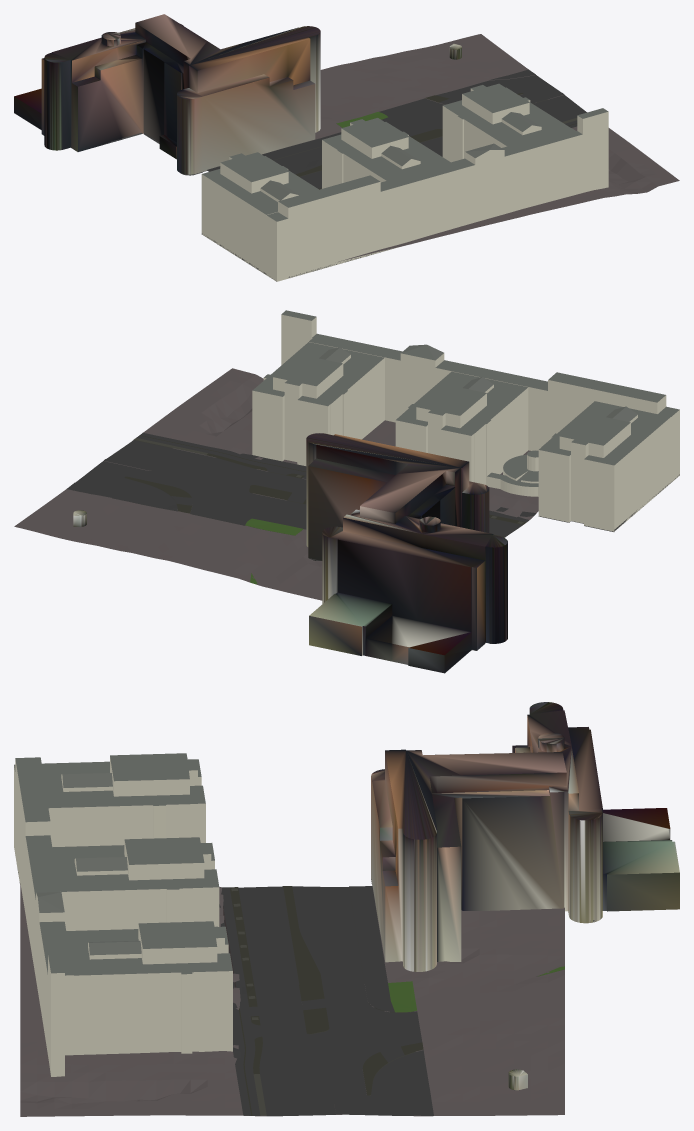
The picture shows the model from 3 angles, top to bottom: view 1: azimuth 30°, elevation 25°; view 2: azimuth 150°, elevation 25°; view 3: azimuth 270°, elevation 25°; orthographic projection. The views are drawn at different scales.
Parts seen in each view (by area): view 1: c_m18_p04; view 2: c_m18_p04; view 3: c_m18_p04.
Boxes of the visible parts, left/top/right/bottom form: c_m18_p04: left=14, top=14, right=679, bottom=281; c_m18_p04: left=14, top=310, right=679, bottom=673; c_m18_p04: left=14, top=702, right=679, bottom=1116.
Size of the model in its own units: 164 by 38.29 by 157.
